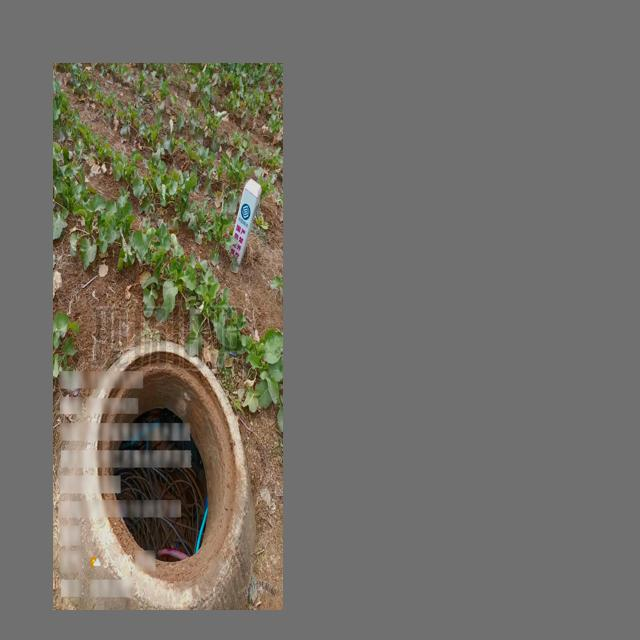lose: (84, 344, 249, 610)
